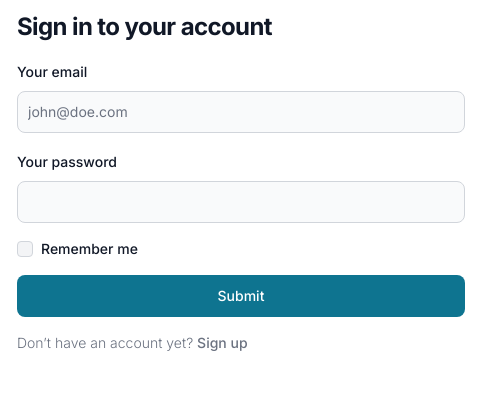
Test: Login Page › Displays error on submitting incomplete form
Expected: the field with test id "email" is empty, [17,91,465,133]
Expected: the password field with test id "password" is empty, [17,181,465,223]
Click the button with test id "submit-btn".
click(241, 296)  # box [17,275,465,317]
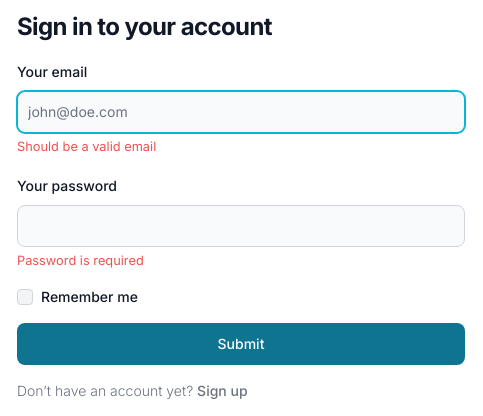
Expected: the text "Should be a valid email" is shown, [17,139,156,154]
Expected: the text "Password is required" is shown, [17,253,144,268]
